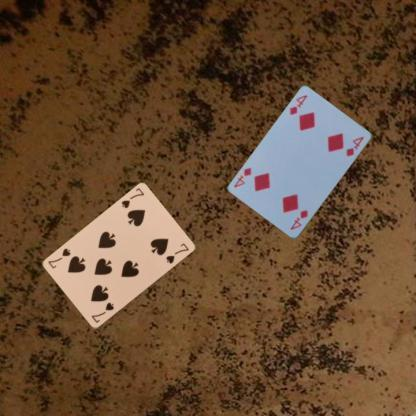4d: (287, 92, 309, 118), (287, 206, 309, 231)
7s: (88, 300, 115, 324), (118, 186, 144, 209)
